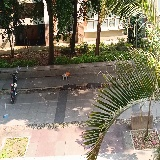fire: (65, 71, 70, 76)
